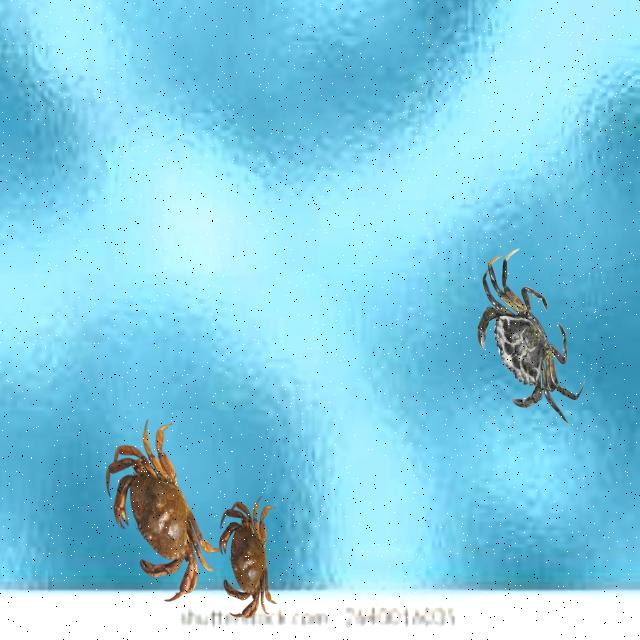European_Green_Crab: (451, 237, 603, 451)
